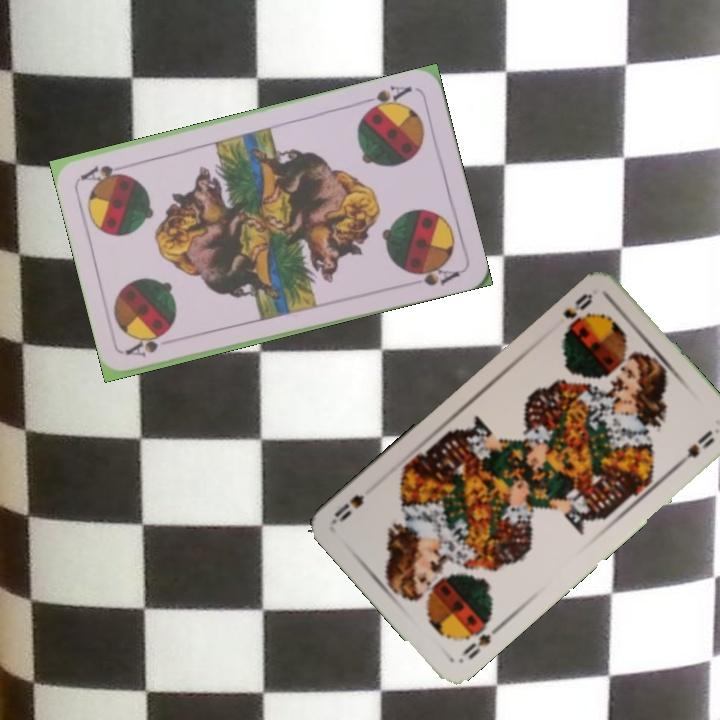SA: (358, 81, 415, 116), (122, 331, 168, 360)
SO: (455, 613, 504, 665), (558, 289, 596, 337)
